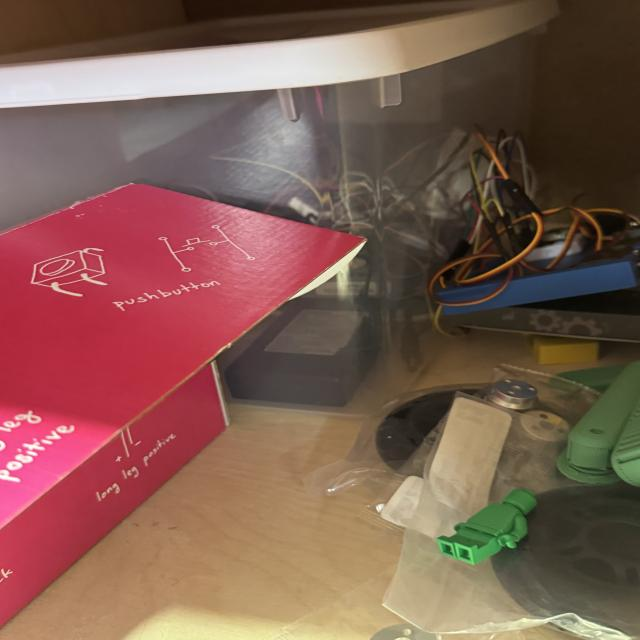Green Mini Figure: (436, 489, 537, 565)
